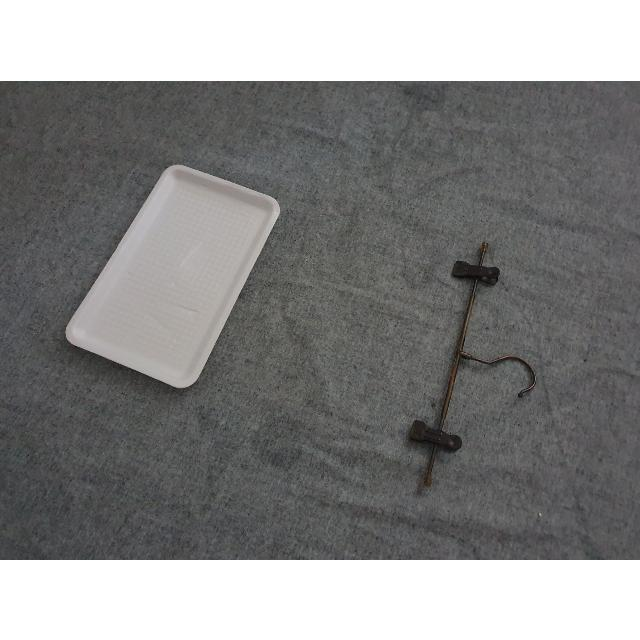Plastico descartable: (64, 165, 282, 392)
